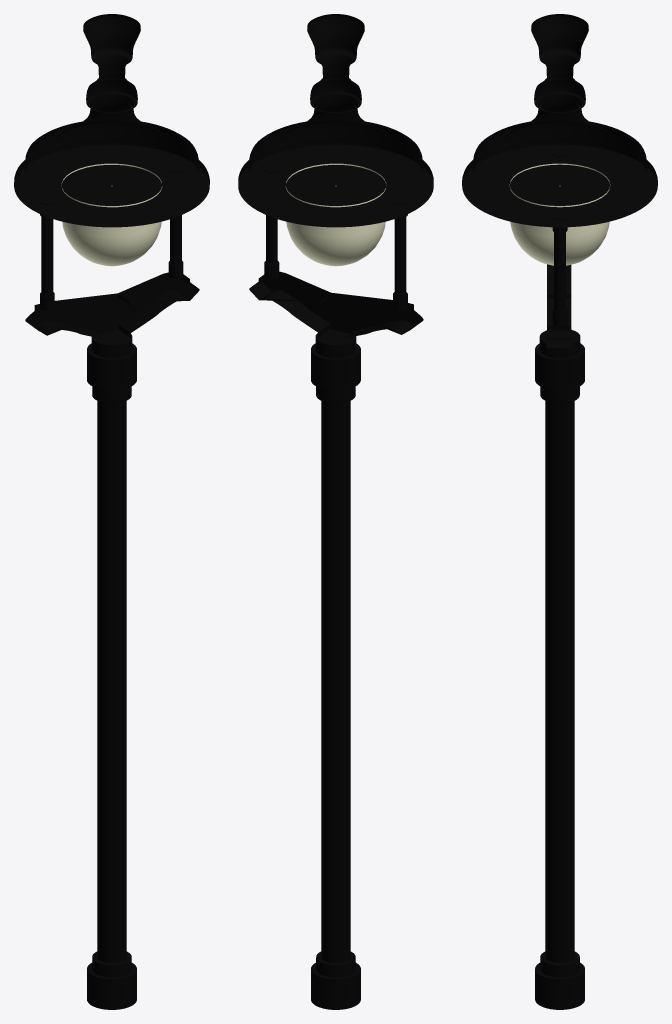
Rendered from street_lamp.FBX.
3 renders of one model, left to right at view 1: azimuth 30°, elevation 25°; view 2: azimuth 150°, elevation 25°; view 3: azimuth 270°, elevation 25°, orthographic.
Visible parts, largest first — view 1: lamp; view 2: lamp; view 3: lamp.
Boxes of the visible parts, bbox=[...] form: lamp: bbox=[14, 14, 209, 1009]; lamp: bbox=[238, 14, 433, 1009]; lamp: bbox=[462, 14, 657, 1009].
Bounding box in the file's own units: 194 × 1065 × 194.
